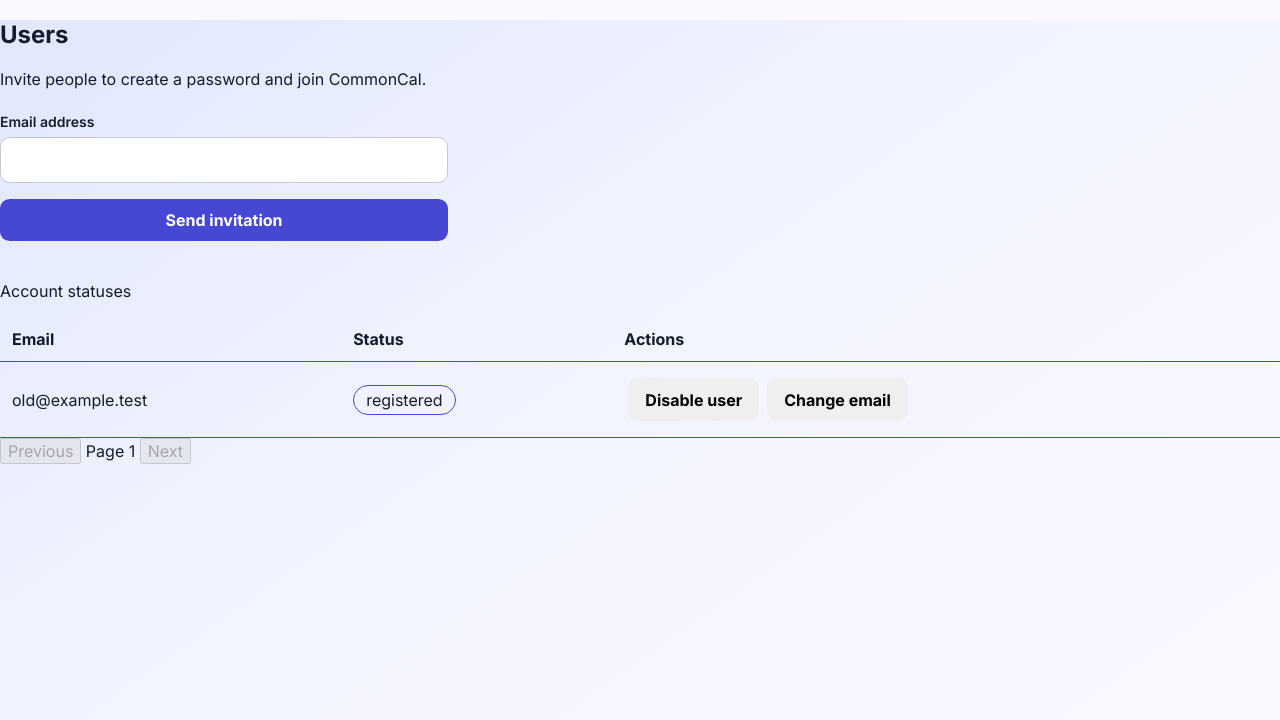
Test: requests admin confirmation with CSRF and displays pending email without replacing the current address
The width and height of the screenshot is (1280, 720).
Click the button "Change email" at [838, 400], box left=767, top=378, right=908, bottom=421
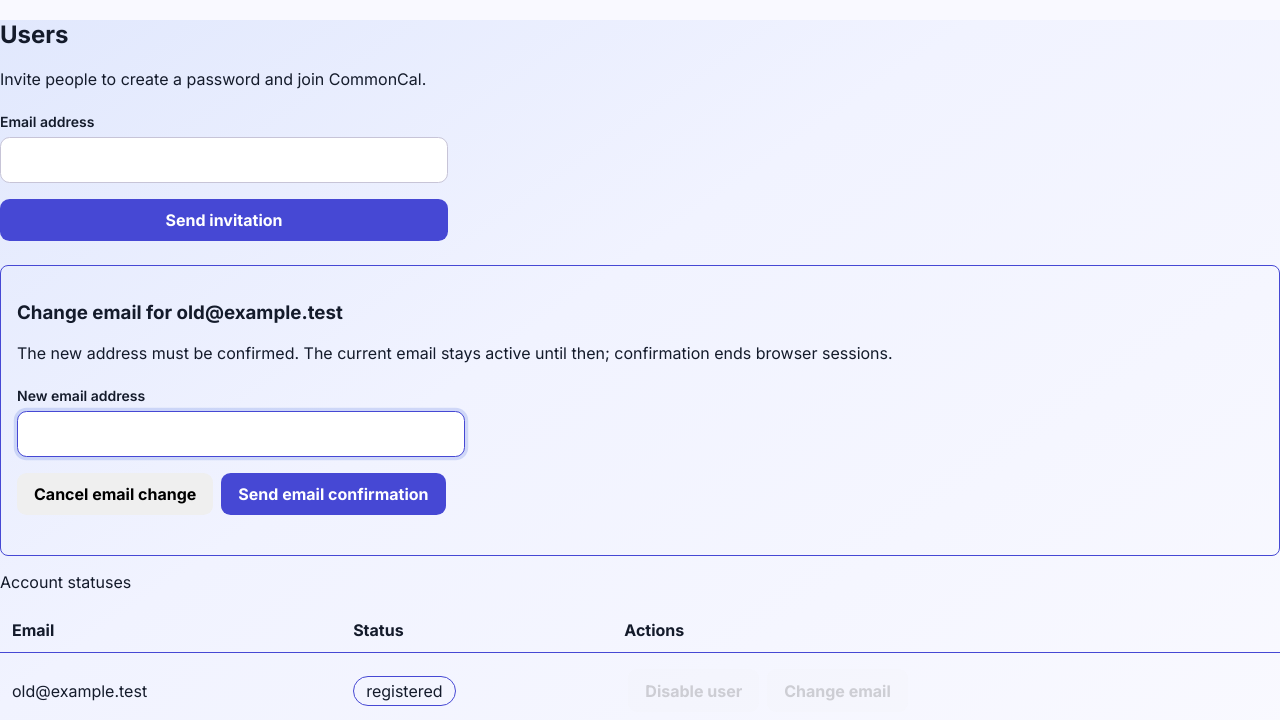
Type "new@example.test" into the field labelled "New email address" at [241, 434], box left=17, top=411, right=465, bottom=457
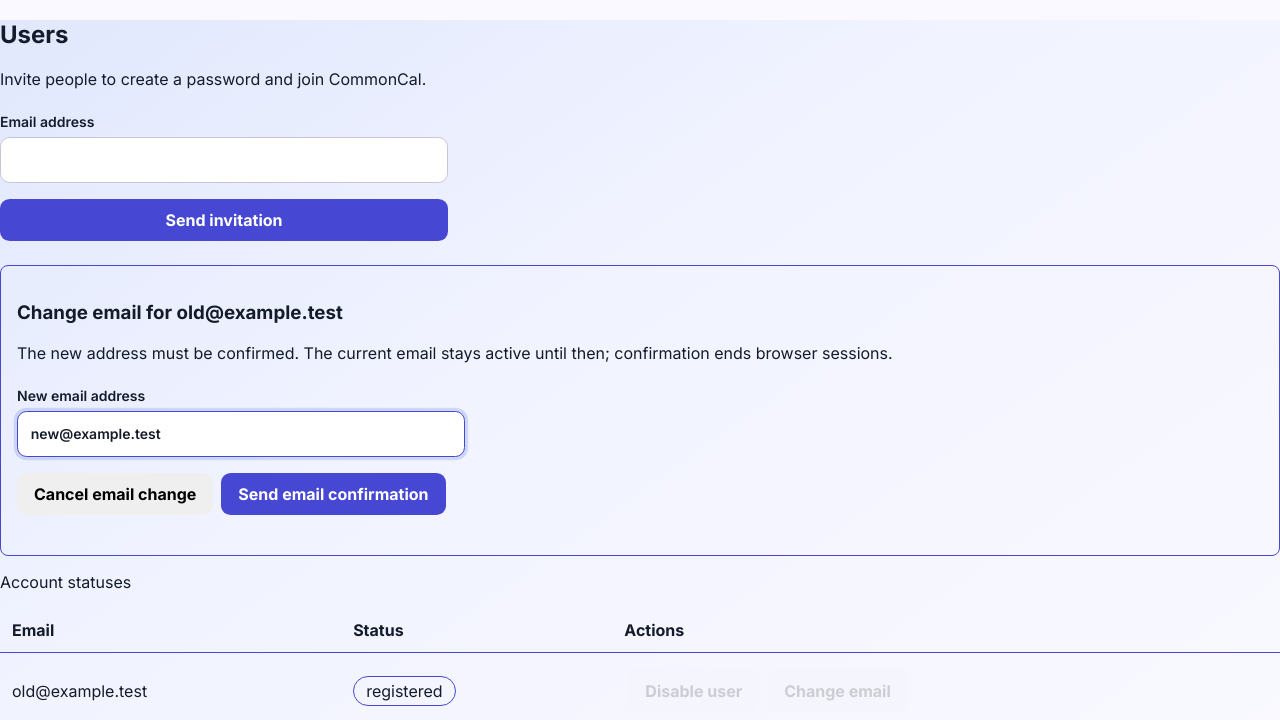
Click the button "Send email confirmation" at [333, 494], box left=221, top=473, right=446, bottom=515
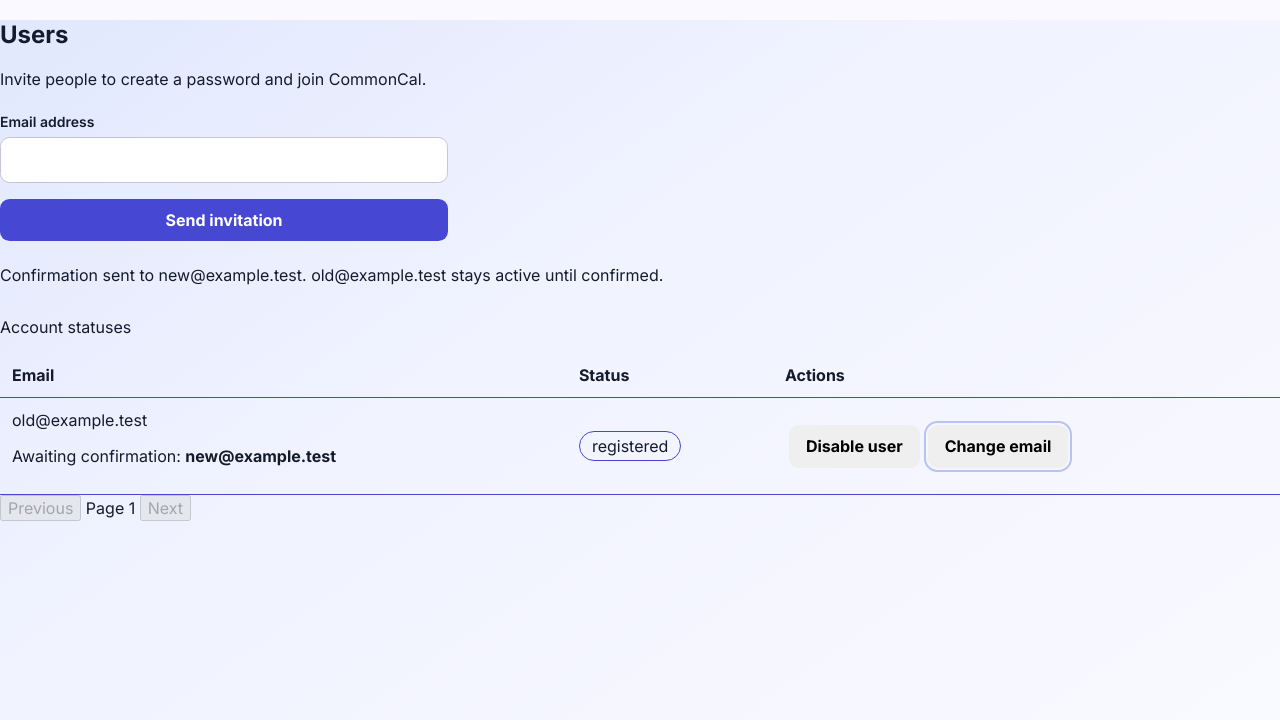
expect the text "old@example.test" is shown: met, box left=12, top=410, right=147, bottom=430
expect the message shows "old@example.test stays active until confirmed.": met, box left=0, top=265, right=663, bottom=285
expect the text "new@example.test" is shown: met, box left=185, top=446, right=336, bottom=466
